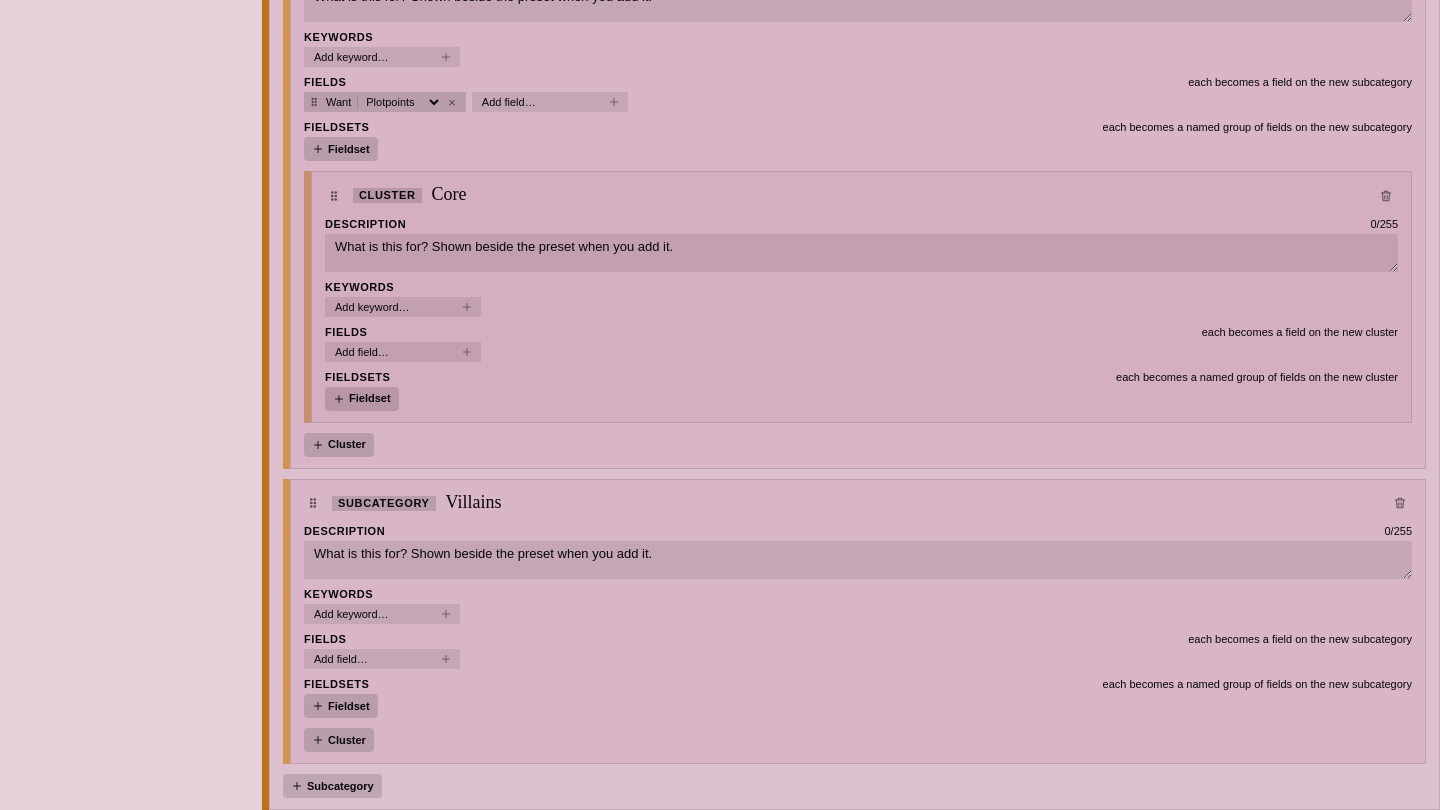
subcategories and clusters › adds a subcategory and a cluster from their buttons
The width and height of the screenshot is (1440, 810).
(page scrolled)
Click the button "Subcategory": (332,786) [283,774,382,798]
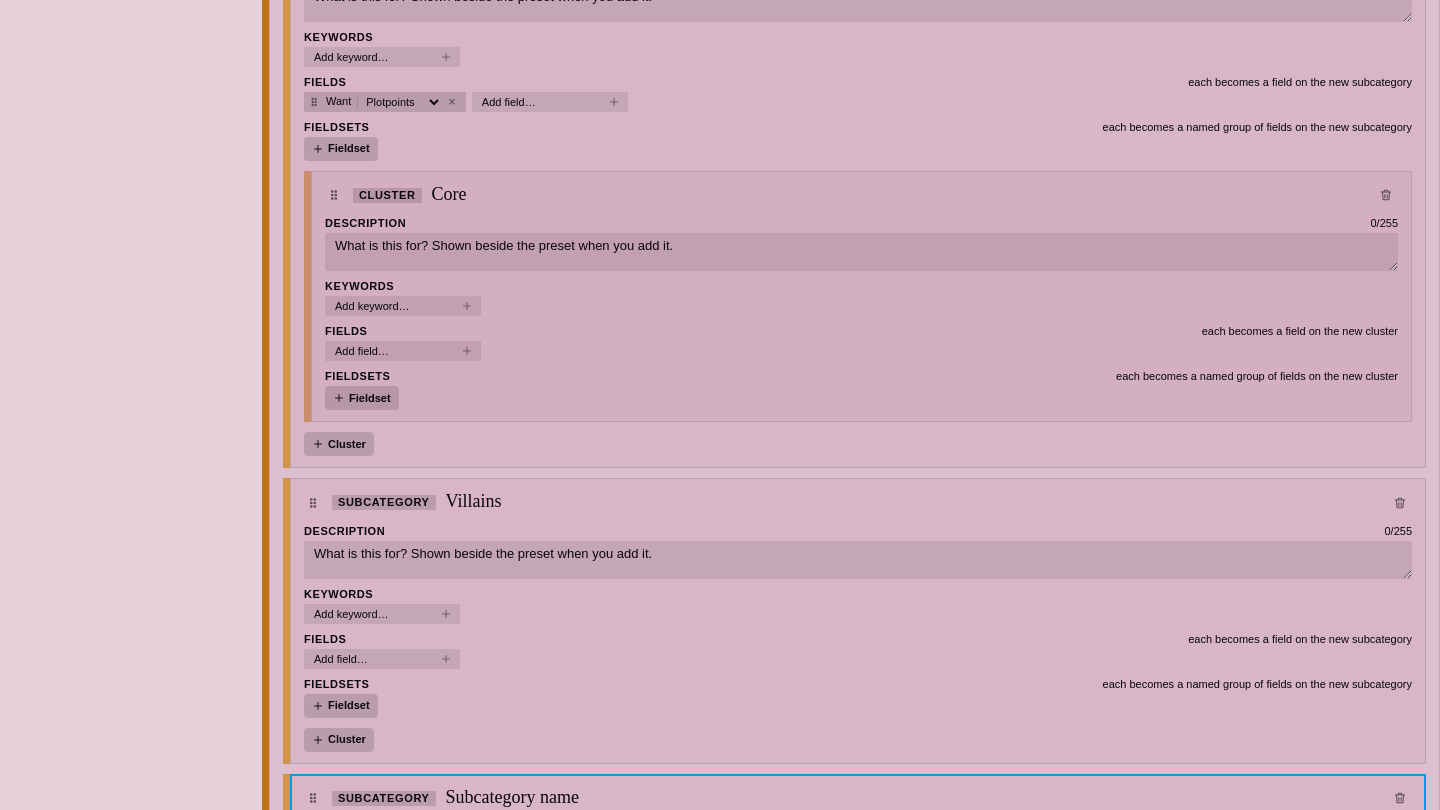
Check: the number of elements "subcategory" is 3
Click the 2nd button "Cluster": (339,740) [304,728,374,752]
(page scrolled)
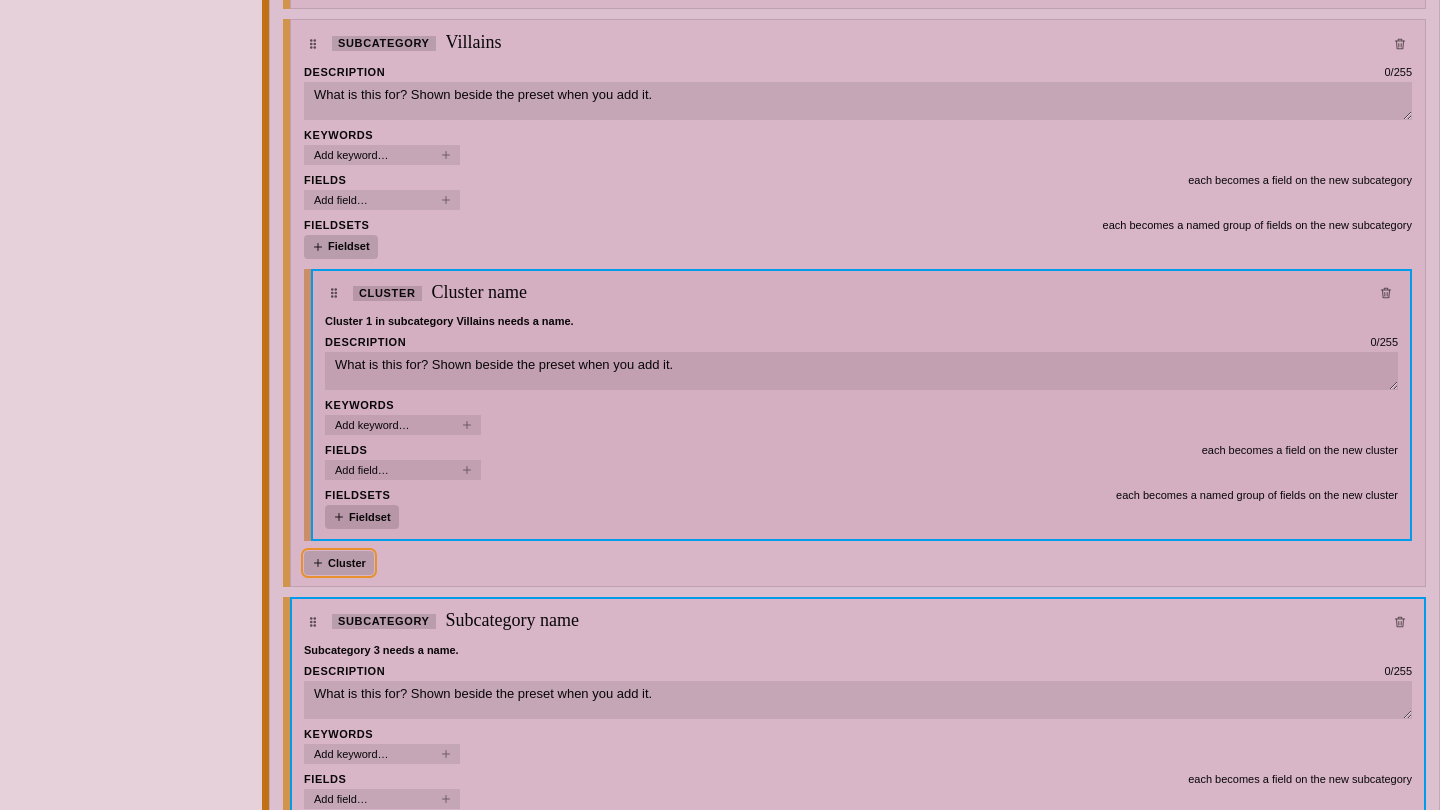
Check: the element named "cluster without a name" is shown, box [304,268,1412,541]
